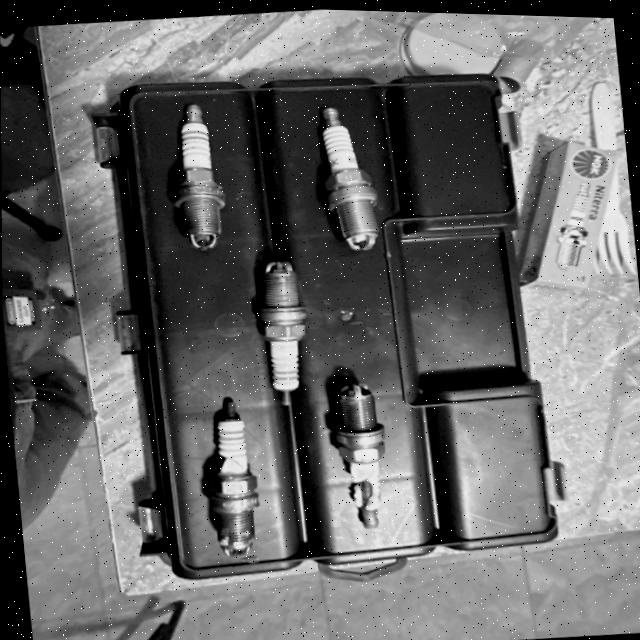damaged_spark-plug: (193, 389, 270, 552), (318, 364, 390, 526)
spark-plug: (313, 94, 393, 252), (167, 97, 229, 251), (255, 250, 309, 403)
